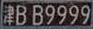B: (16, 5, 27, 25)
